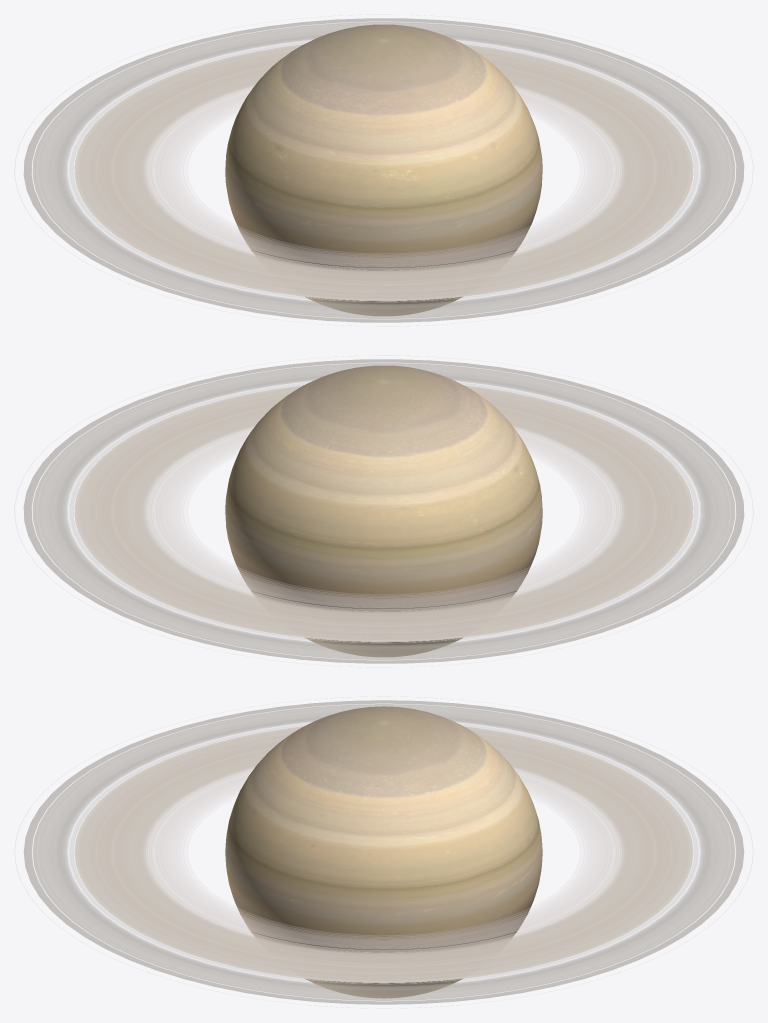
The model's file is Saturn.gltf.
3 views of the same model, one above another, from view 1: azimuth 30°, elevation 25°; view 2: azimuth 150°, elevation 25°; view 3: azimuth 270°, elevation 25° (orthographic).
Parts seen in each view (by area): view 1: RingsTop, Saturn.001; view 2: RingsTop, Saturn.001; view 3: RingsTop, Saturn.001.
Part boxes in pixels (bbox=[...]): RingsTop: bbox=[23, 18, 744, 322]; Saturn.001: bbox=[225, 24, 542, 315]; RingsTop: bbox=[23, 359, 744, 663]; Saturn.001: bbox=[225, 365, 542, 656]; RingsTop: bbox=[23, 700, 744, 1004]; Saturn.001: bbox=[225, 706, 542, 998].
Bounding box in the file's own units: 2331 × 902 × 2331.
2 materials, 2 textured.
